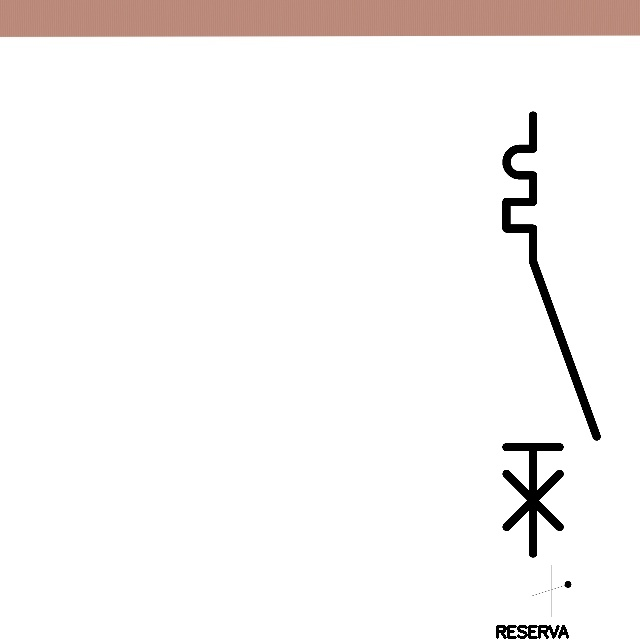interruptor_termomagnetico: (495, 104, 608, 565)
